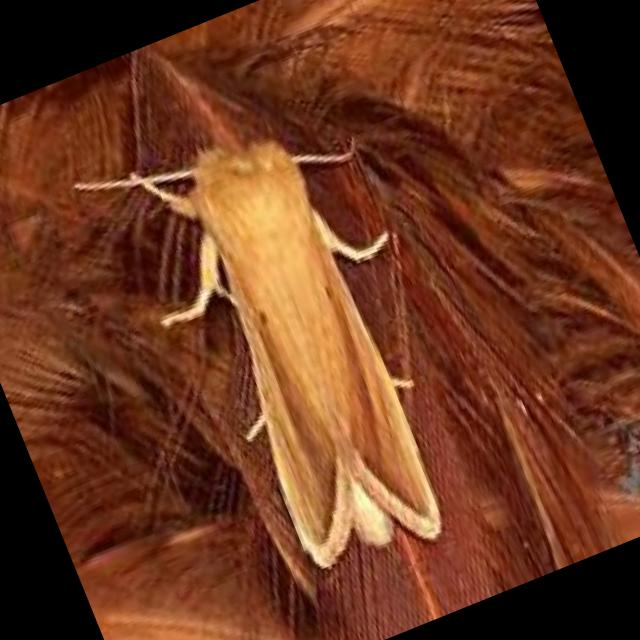stem-borer: (142, 106, 462, 596)
